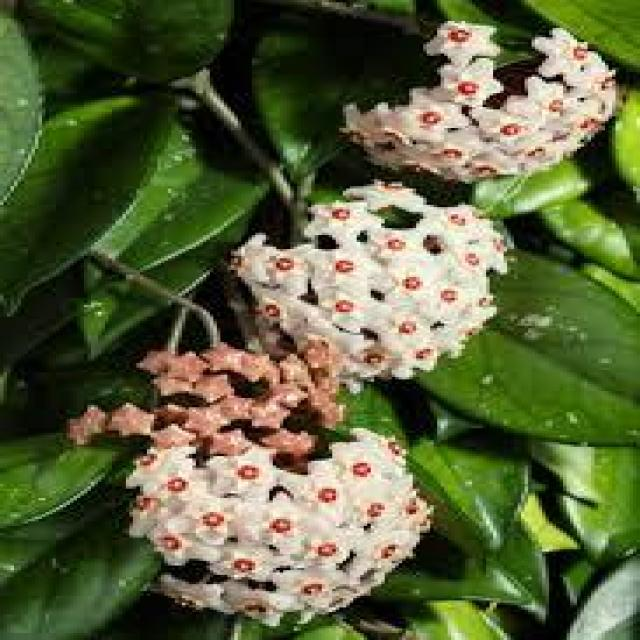organic waste: (100, 405, 453, 607), (226, 174, 526, 374), (371, 24, 619, 192)
